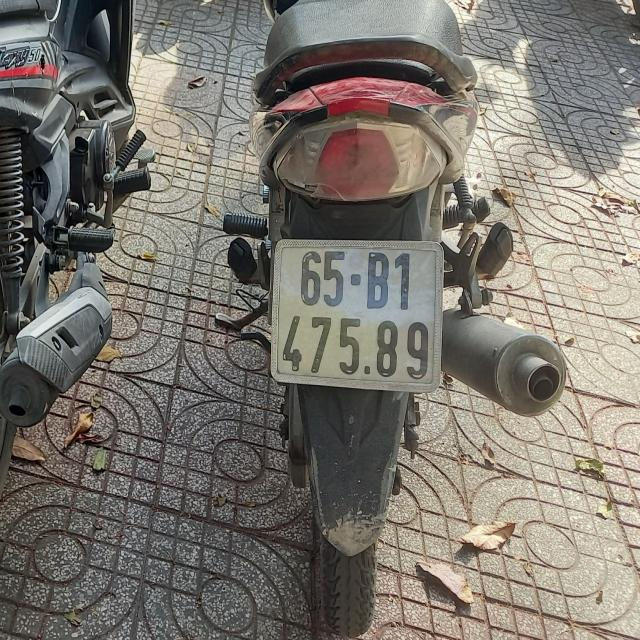1: (394, 250, 410, 310)
4: (282, 314, 304, 372)
5: (323, 249, 346, 307), (340, 318, 362, 376)
6: (302, 248, 321, 305)
7: (311, 317, 332, 374)
8: (376, 320, 399, 377)
9: (406, 322, 430, 381)
B: (366, 251, 389, 311)
